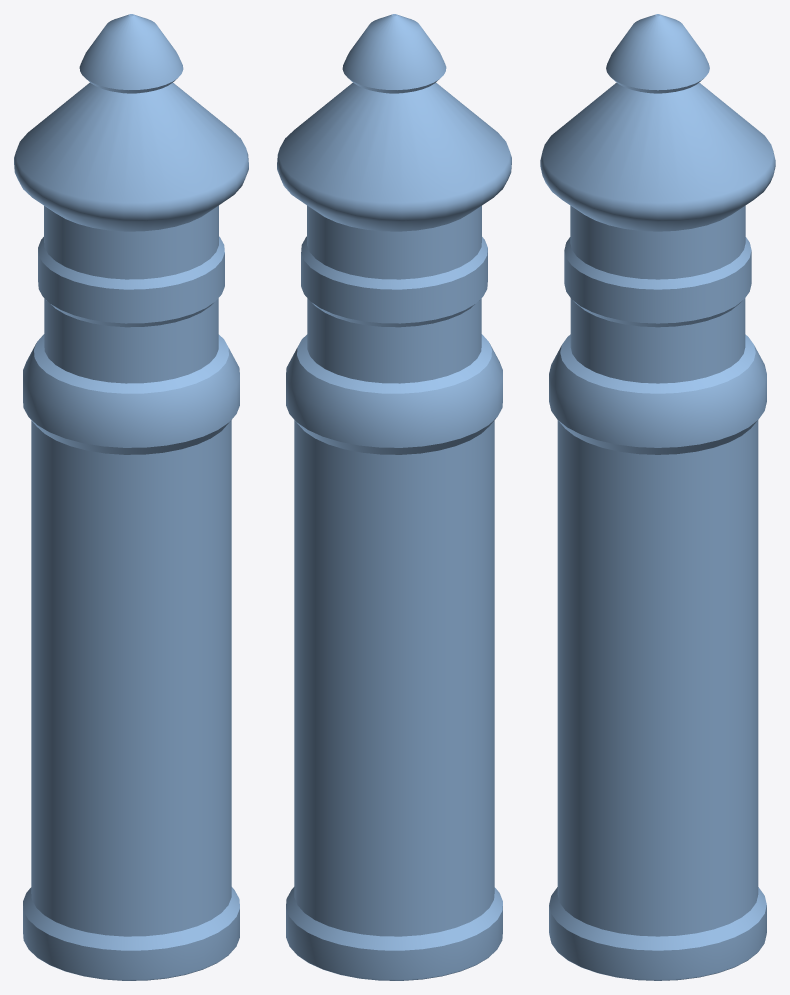
File: wieza1.fbx
3 views of the same model, side by side, from view 1: azimuth 30°, elevation 25°; view 2: azimuth 150°, elevation 25°; view 3: azimuth 270°, elevation 25° (orthographic).
Parts seen in each view (by area): view 1: wieza1; view 2: wieza1; view 3: wieza1.
Part boxes in pixels (x1,y1,x2,y2): wieza1: (14, 14, 248, 980); wieza1: (277, 14, 511, 980); wieza1: (540, 14, 775, 980).
Bounding box in the file's own units: 117 × 504 × 117.
